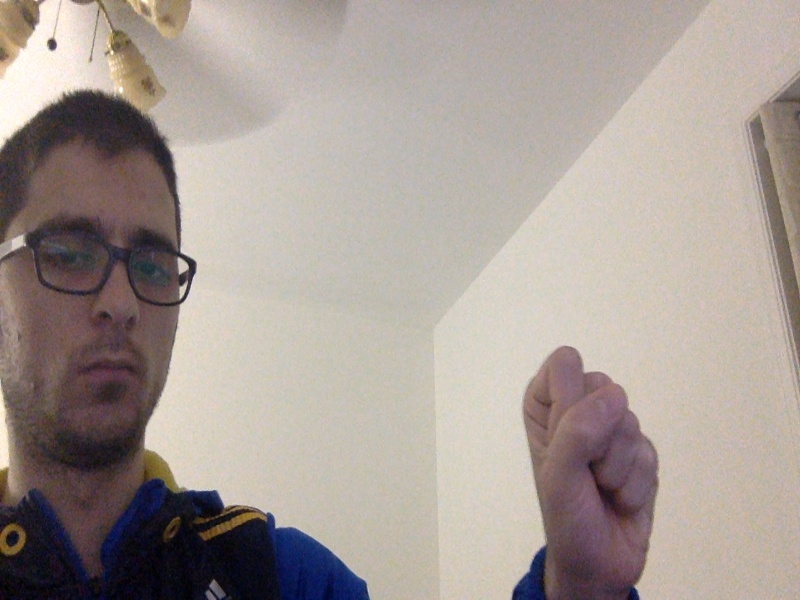0-hand: (520, 345, 659, 588)
